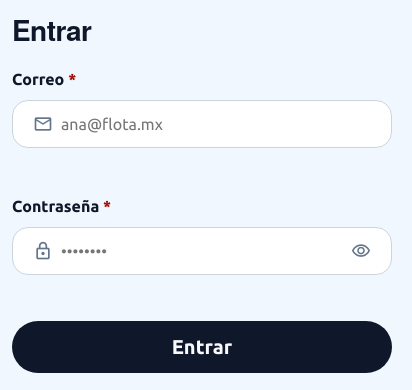
conformance canon · auth › aut-p2: el error se anuncia al aparecer y el foco va al primer campo con problema
The image size is (412, 390).
Click the button "Entrar" at (202, 347), box [12,321,392,373]
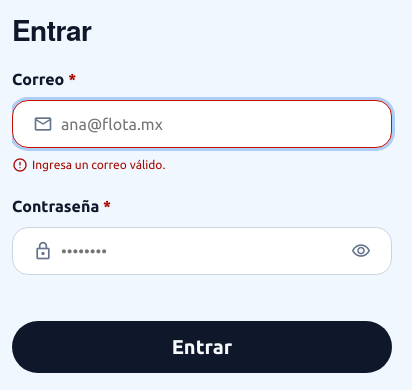
Result: the message "Ingresa un correo válido." is shown at [12,155,165,175]
